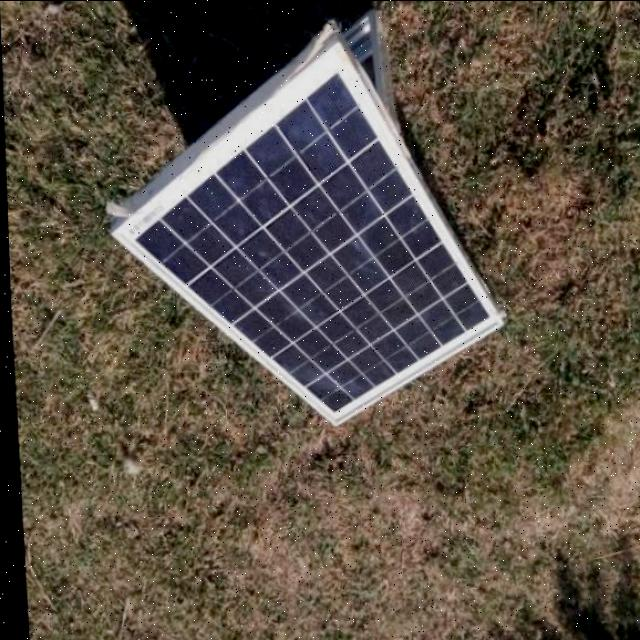Normal Solar Panel: (103, 36, 503, 438)
